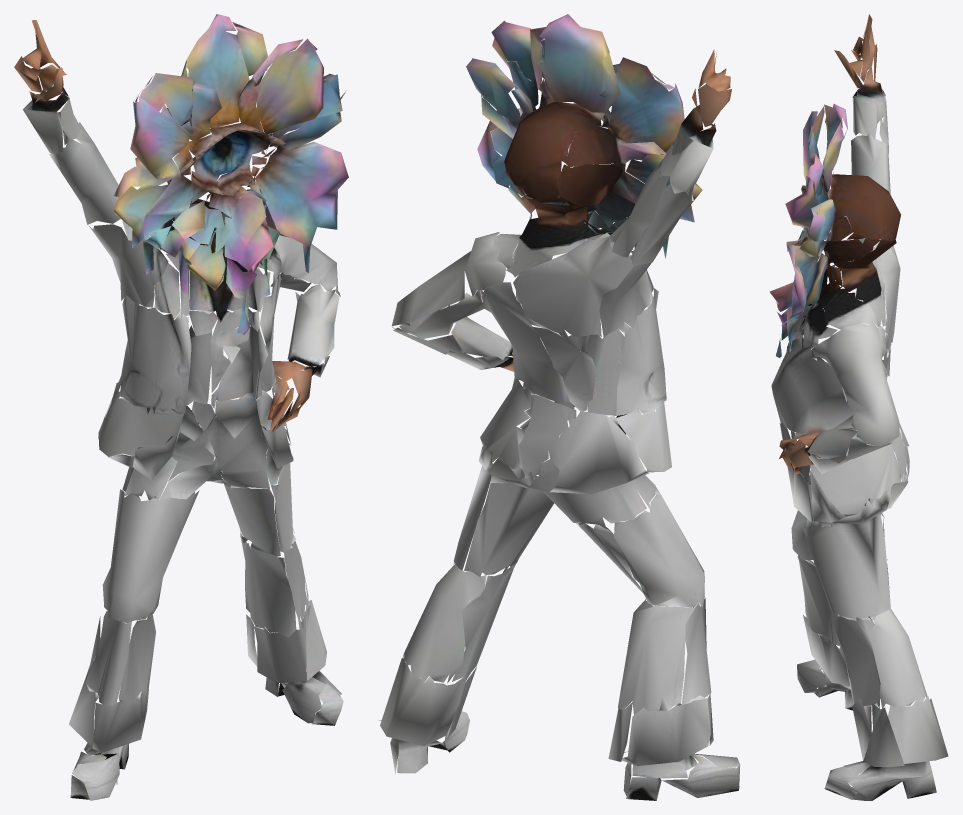
Rendered from crowd_discoking.glb.
3 renders of one model, left to right at view 1: azimuth 30°, elevation 25°; view 2: azimuth 150°, elevation 25°; view 3: azimuth 270°, elevation 25°, orthographic. The views are drawn at different scales.
Visible parts, largest first — view 1: tripo_node_b34096fa-347c-4600-b127-7b8cc124b146; view 2: tripo_node_b34096fa-347c-4600-b127-7b8cc124b146; view 3: tripo_node_b34096fa-347c-4600-b127-7b8cc124b146.
Part boxes in pixels (box(x1,y1,x2,y2)): tripo_node_b34096fa-347c-4600-b127-7b8cc124b146: box(14, 14, 348, 800); tripo_node_b34096fa-347c-4600-b127-7b8cc124b146: box(377, 14, 740, 800); tripo_node_b34096fa-347c-4600-b127-7b8cc124b146: box(769, 14, 948, 800).
Size of the model in its own units: 0.8348 by 1.87 by 0.4594.
Materials: 1 (1 with a texture image).
